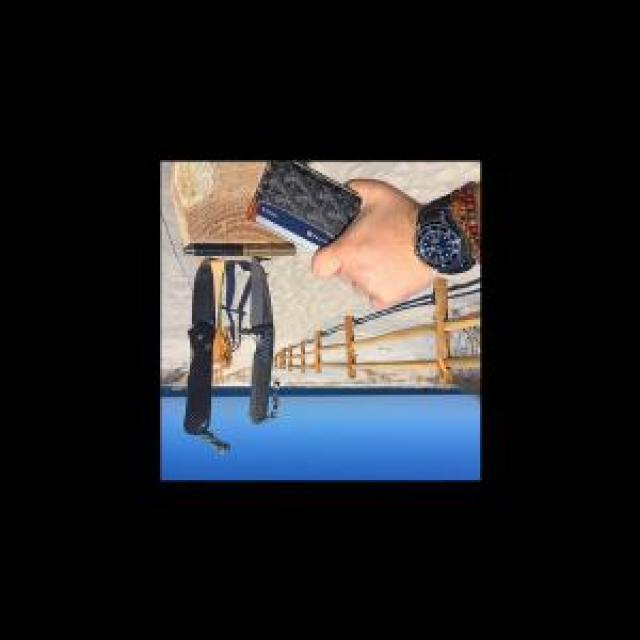knife: (228, 248, 283, 435), (181, 239, 221, 450)
